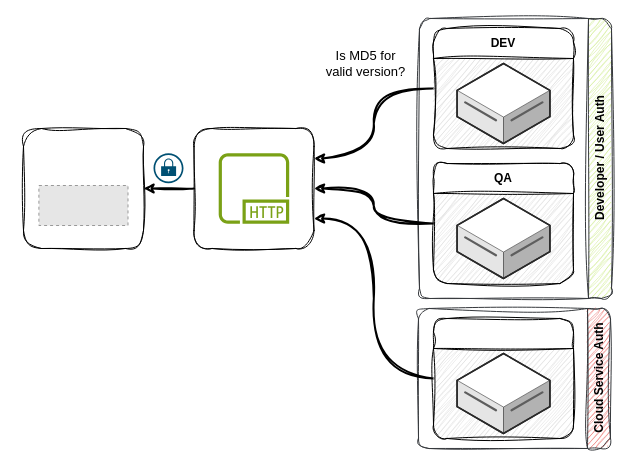
Image size: 634x470. Some labels were removed from this diagram. Grey dashed boxes stand in for pictures. The box of each missing label's shape, as (x1, y1, x2, y2) in pixels:
GitHub Packages: (22, 128, 144, 248)
PROD: (432, 318, 574, 438)
